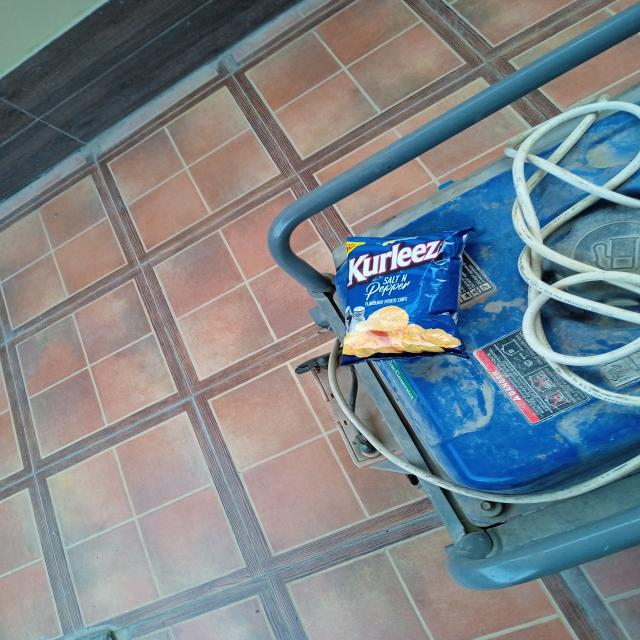Plastic: (328, 224, 480, 368)
